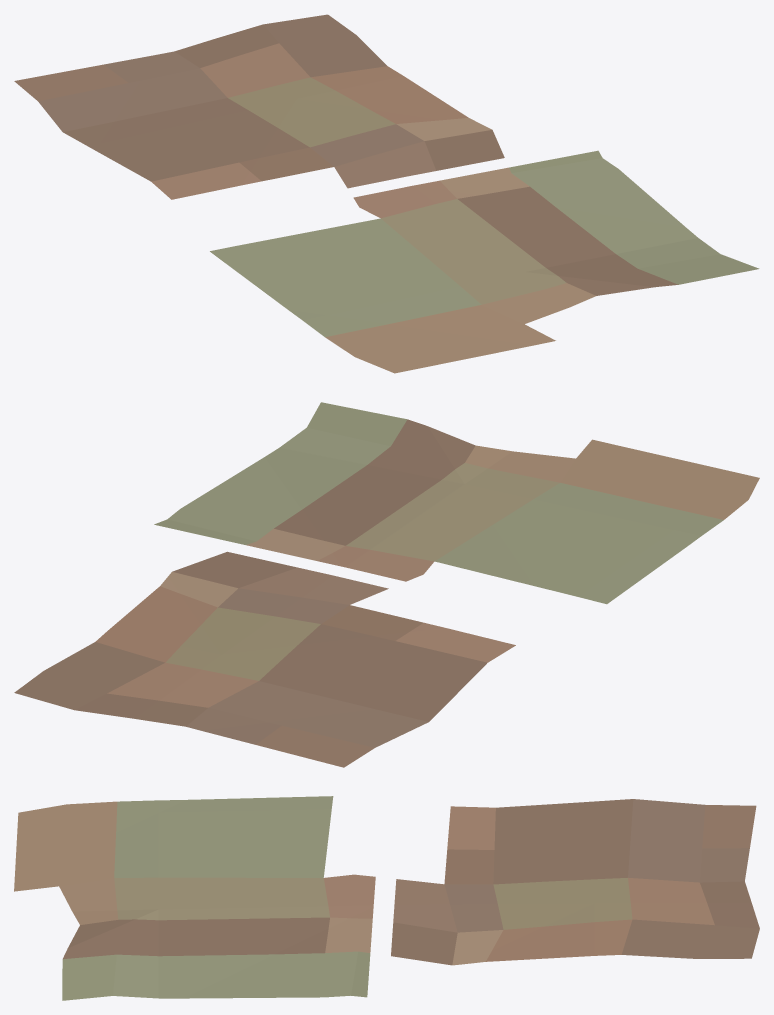
The model's file is farm_28_25_soil.glb.
3 views of the same model, one above another, from view 1: azimuth 30°, elevation 25°; view 2: azimuth 150°, elevation 25°; view 3: azimuth 270°, elevation 25° (orthographic). The views are drawn at different scales.
Parts seen in each view (by area): view 1: geometry_0; view 2: geometry_0; view 3: geometry_0.
Part boxes in pixels (x1,y1,x2,y2): geometry_0: (14, 14, 759, 373); geometry_0: (14, 402, 759, 767); geometry_0: (14, 796, 759, 1000).
Size of the model in its own units: 166 by 7.51 by 274.
